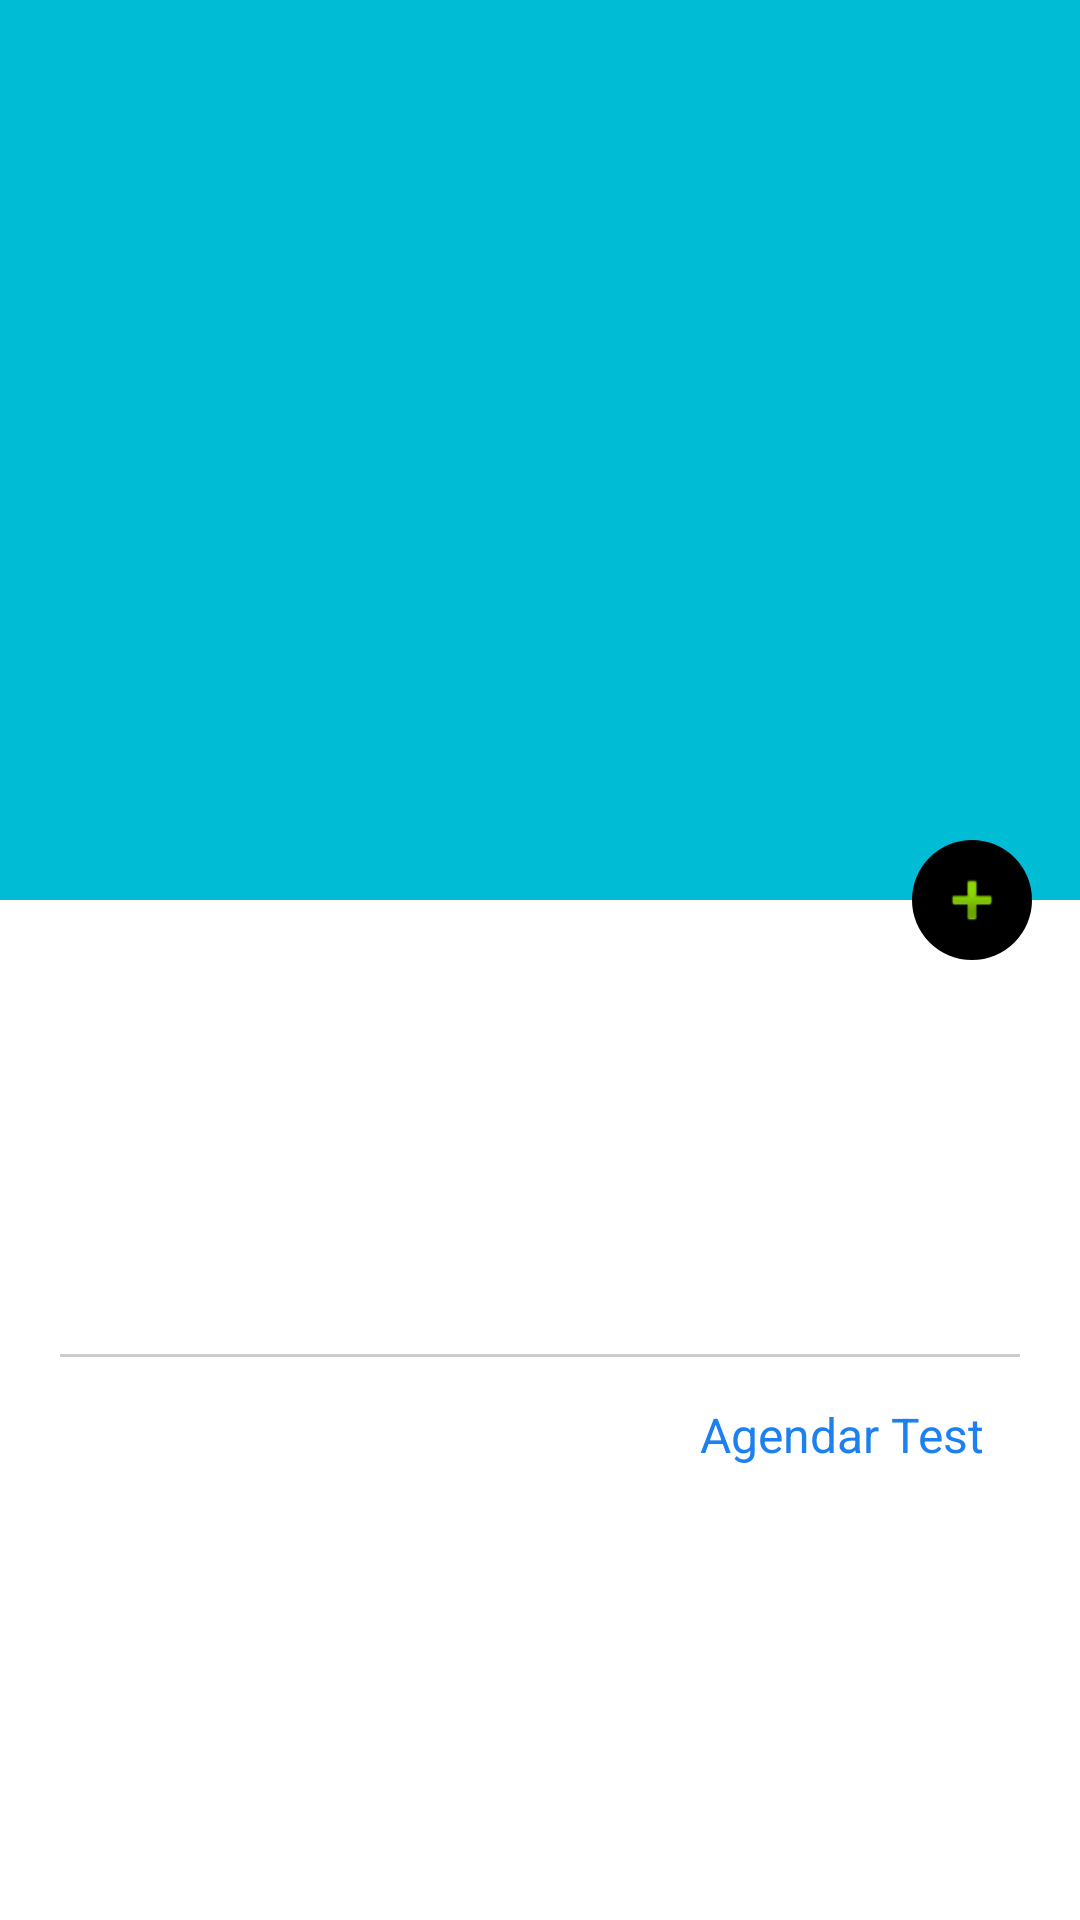

Screen size 1080px x 1920px. Icon name, then its center in pixels as (x,y):
add: (972,900)
